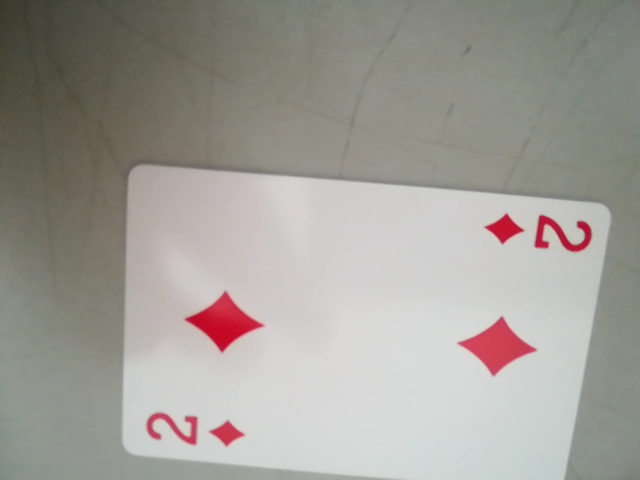fk 2: (139, 399, 258, 459), (484, 205, 596, 262)
